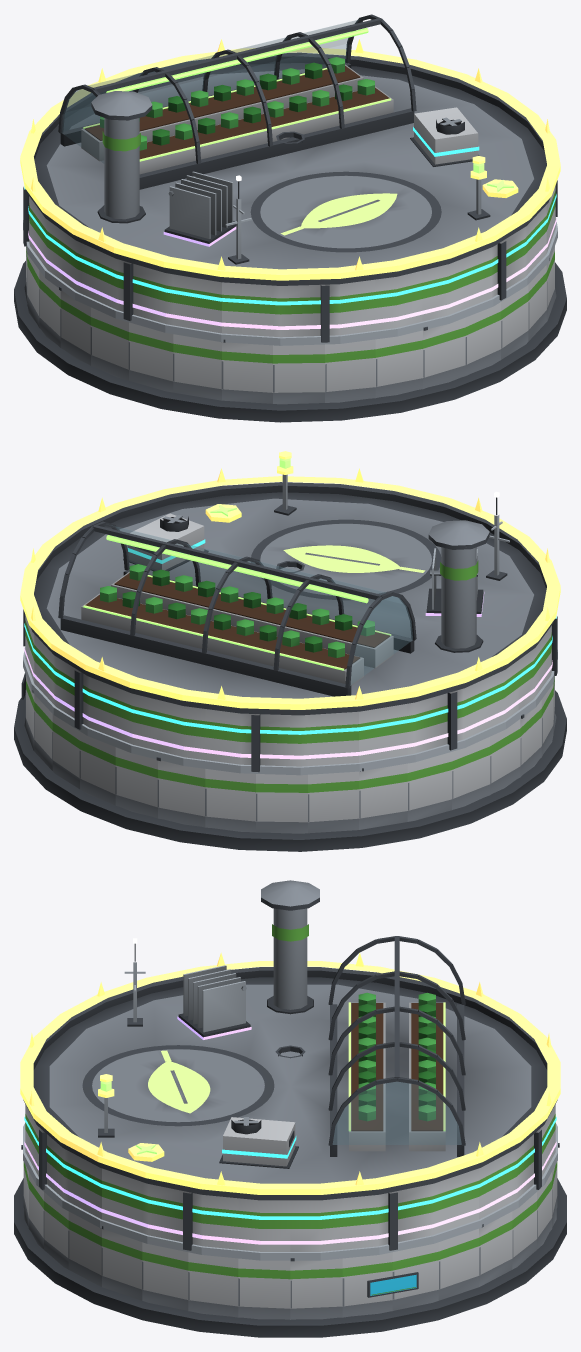
File: kitchen_s.glb
3 renders of one model, top to bottom at view 1: azimuth 30°, elevation 25°; view 2: azimuth 150°, elevation 25°; view 3: azimuth 270°, elevation 25°, orthographic.
Visible parts, largest first — view 1: Roof, Base, L4, L3, Wall_21, Wall_20, Wall_22, Wall_19, Wall_23, Wall_18, Wall_24, Upper_21 (+38 smaller); view 2: Roof, Base, Wall_10, Wall_11, Wall_09, Wall_12, Wall_08, Wall_13, L3, Wall_07, Upper_10, Upper_09 (+38 smaller); view 3: Roof, Base, L4, L3, Wall_00, Wall_31, Wall_30, Wall_29, Wall_01, Upper_01, Upper_30, Wall_28 (+31 smaller).
Boxes of the visible parts, bbox=[...] form: Roof: bbox=[27, 14, 549, 285]; Base: bbox=[14, 261, 566, 422]; L4: bbox=[163, 171, 236, 246]; L3: bbox=[276, 107, 479, 166]; Wall_21: bbox=[273, 344, 324, 404]; Wall_20: bbox=[221, 339, 272, 403]; Wall_22: bbox=[325, 339, 375, 402]; Wall_19: bbox=[173, 334, 221, 400]; Wall_23: bbox=[375, 330, 422, 397]; Wall_18: bbox=[128, 322, 173, 392]; Wall_24: bbox=[423, 318, 465, 388]; Upper_21: bbox=[273, 284, 325, 342]; Roof: bbox=[31, 482, 553, 715]; Base: bbox=[14, 690, 566, 851]; Wall_10: bbox=[256, 774, 307, 833]; Wall_11: bbox=[308, 771, 358, 833]; Wall_09: bbox=[205, 769, 255, 832]; Wall_12: bbox=[359, 763, 407, 829]; Wall_08: bbox=[156, 757, 205, 827]; Wall_13: bbox=[407, 752, 451, 821]; L3: bbox=[123, 513, 304, 572]; Wall_07: bbox=[115, 747, 157, 818]; Upper_10: bbox=[255, 714, 307, 772]; Upper_09: bbox=[205, 709, 255, 771]; Roof: bbox=[23, 880, 557, 1200]; Base: bbox=[14, 1178, 566, 1337]; L4: bbox=[177, 965, 251, 1039]; L3: bbox=[219, 1045, 305, 1168]; Wall_00: bbox=[290, 1258, 342, 1319]; Wall_31: bbox=[238, 1258, 290, 1319]; Wall_30: bbox=[188, 1252, 238, 1317]; Wall_29: bbox=[142, 1242, 188, 1310]; Wall_01: bbox=[342, 1252, 392, 1317]; Upper_01: bbox=[342, 1192, 393, 1250]; Upper_30: bbox=[187, 1192, 238, 1250]; Wall_28: bbox=[101, 1226, 142, 1300].
Bounding box in the file's own units: 10.53 × 5.34 × 10.53.
